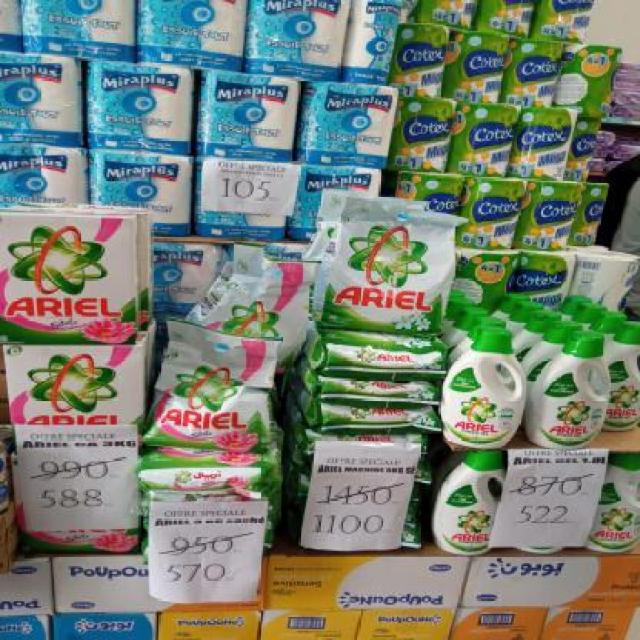Detergent: (323, 198, 459, 333), (0, 213, 140, 344), (139, 324, 275, 456), (2, 342, 146, 426), (436, 326, 527, 448), (532, 338, 610, 448), (314, 332, 449, 382), (137, 452, 280, 498), (435, 448, 496, 555), (595, 449, 639, 554), (600, 322, 640, 432), (317, 377, 443, 409), (315, 406, 443, 432)
